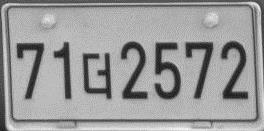1: (48, 40, 79, 100)
2: (119, 40, 149, 100), (220, 40, 249, 101)
5: (153, 41, 182, 100)
7: (15, 41, 46, 101), (184, 40, 215, 100)
더: (81, 51, 114, 100)
